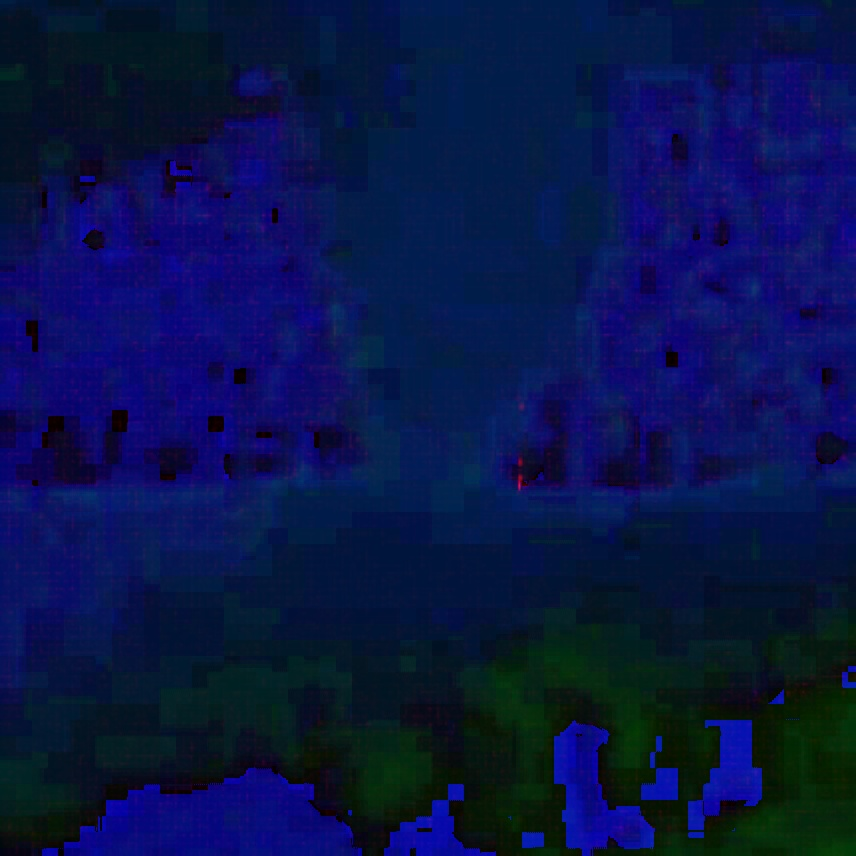rip_current: (206, 165, 670, 791)
